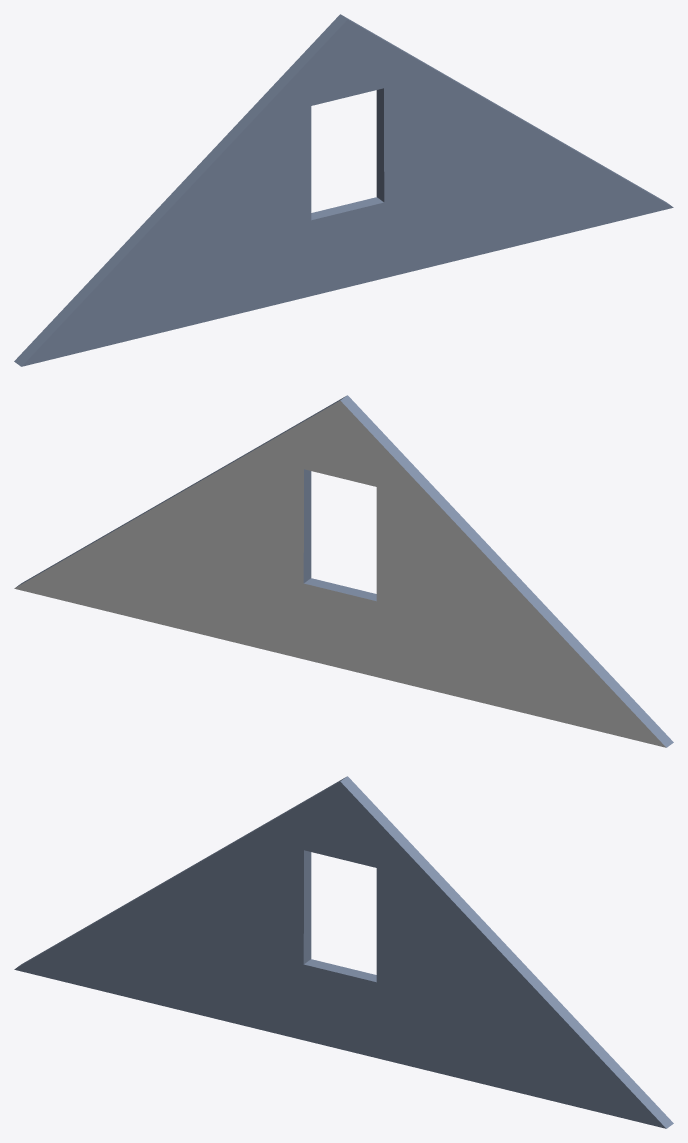
File: Wall1_C3_19.fbx
3 renders of one model, top to bottom at view 1: azimuth 30°, elevation 25°; view 2: azimuth 150°, elevation 25°; view 3: azimuth 330°, elevation 25°, orthographic.
Parts seen in each view (by area): view 1: Wall1_C3_19; view 2: Wall1_C3_19; view 3: Wall1_C3_19.
Boxes of the visible parts, bbox=[...] form: Wall1_C3_19: bbox=[14, 14, 673, 366]; Wall1_C3_19: bbox=[14, 395, 673, 747]; Wall1_C3_19: bbox=[14, 776, 673, 1128].
Size of the model in its own units: 765 by 300 by 15.
